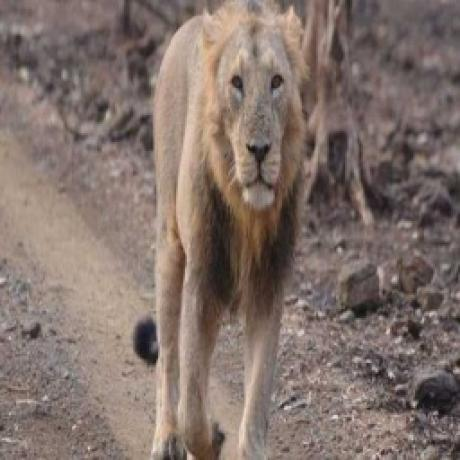Lion: (129, 0, 313, 460)
